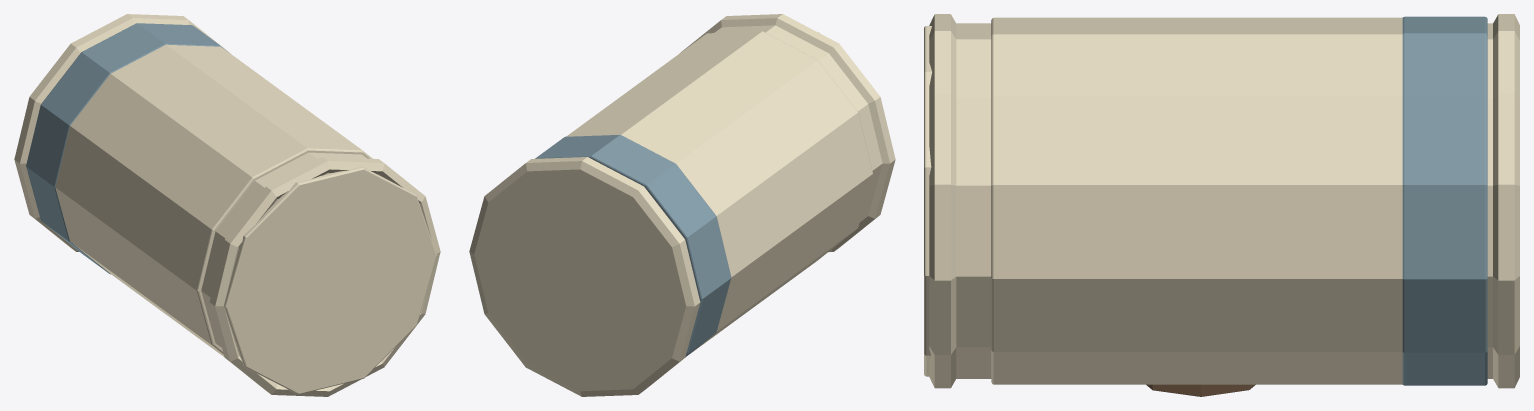
File: coconut_milk.glb
3 renders of one model, left to right at view 1: azimuth 30°, elevation 25°; view 2: azimuth 150°, elevation 25°; view 3: azimuth 270°, elevation 25°, orthographic. The views are drawn at different scales.
Visible parts, largest first — view 1: coconut_milk; view 2: coconut_milk; view 3: coconut_milk.
Boxes of the visible parts, box(x1,y1,x2,y2) form: coconut_milk: box(14, 14, 440, 396); coconut_milk: box(469, 14, 895, 396); coconut_milk: box(924, 14, 1519, 396).
Size of the model in its own units: 0.07 by 0.0726 by 0.111.
